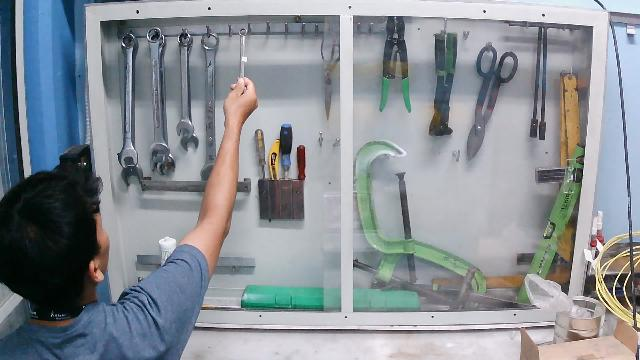kunci_pass_13: (222, 23, 264, 121)
